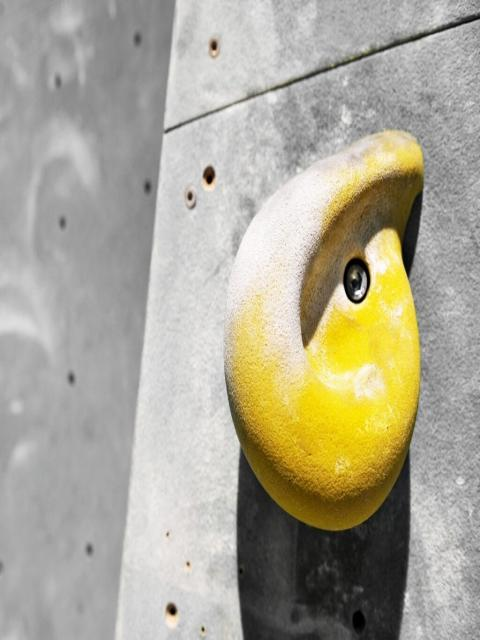jug: (224, 131, 423, 530)
